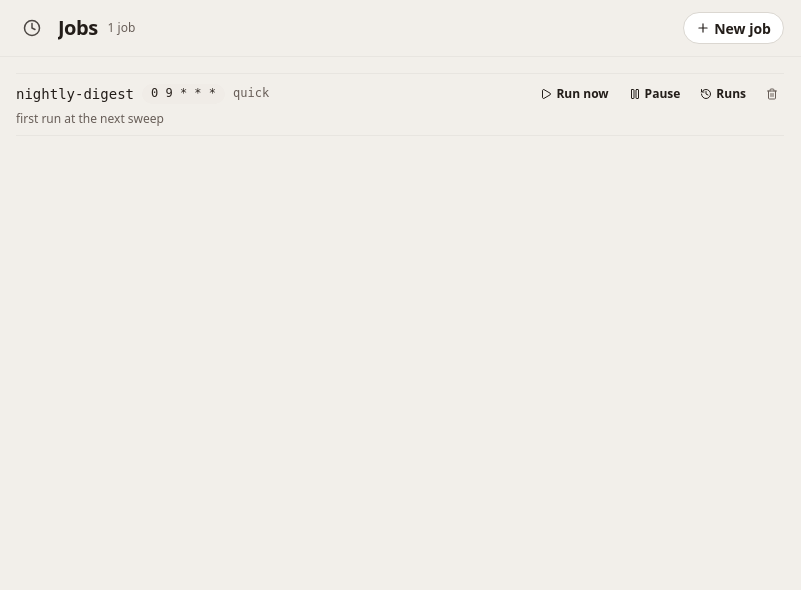
a job’s run history › says when it was cut, and how long each run took
Click the button with aria-label "Runs of nightly-digest" at (723, 94), box [694, 82, 752, 106]
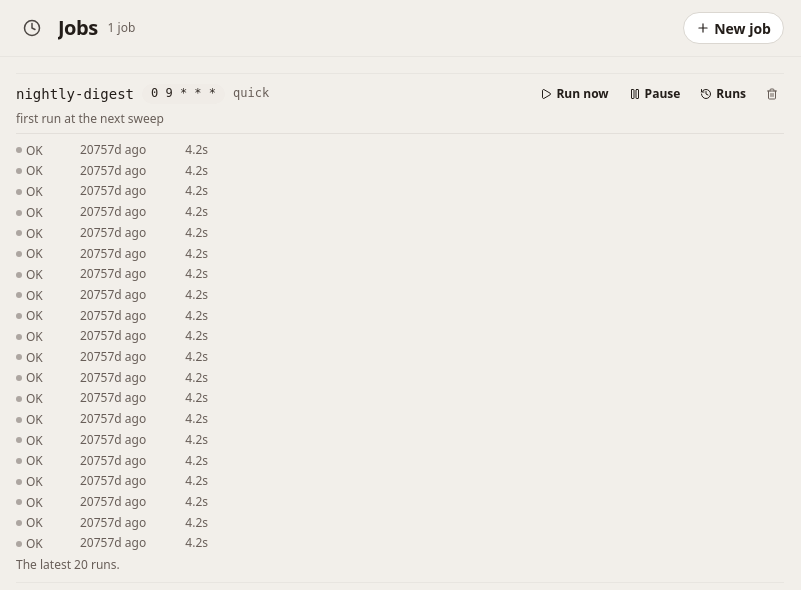
Now the text "The latest 20 runs." is shown, box [16, 556, 120, 574]
Now the text "4.2s" is shown 20 times
